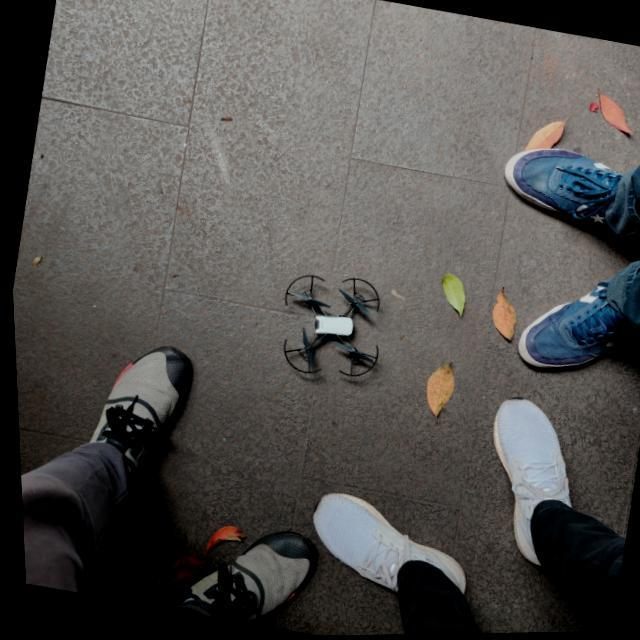drone: (279, 275, 375, 377)
